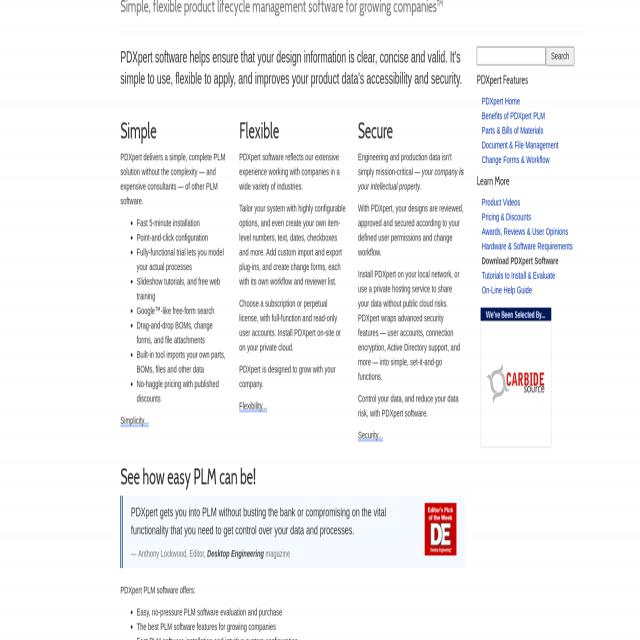button: (480, 321, 550, 447), (425, 503, 457, 556), (546, 47, 574, 66)
field: (477, 47, 546, 65)
